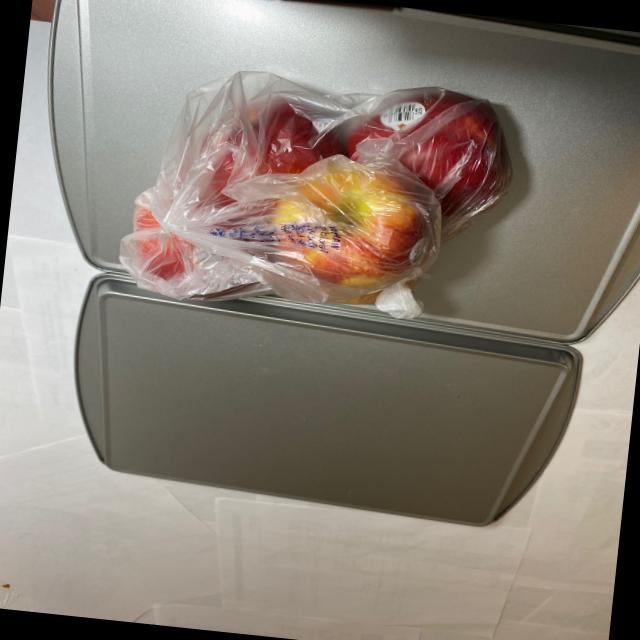apple: (112, 56, 524, 336)
